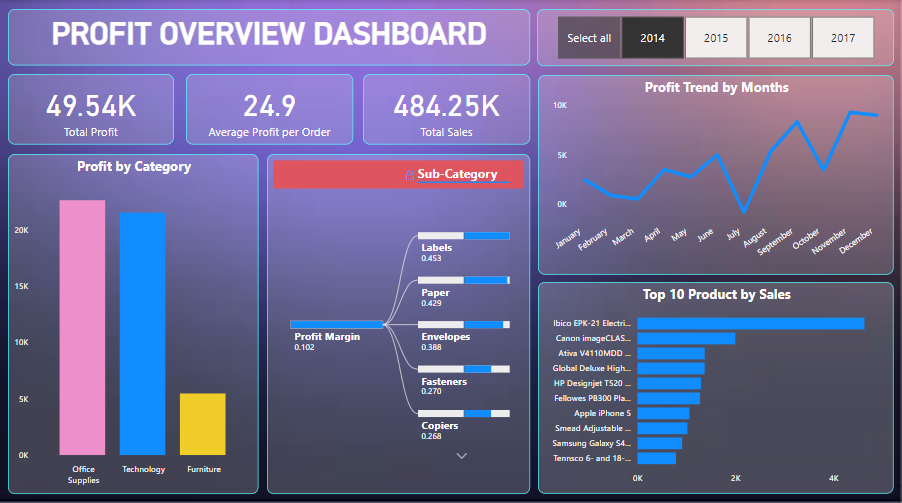

The dashboard page shown, as its layout file describes it:
{"tool":"powerbi","page":{"name":"profit overview","canvas":[1280,720],"ordinal":2},"visuals":[{"type":"card","fields":{"Values":["Sum(Orders.Profit)"]},"box":[11.7,105,235,100],"z":0},{"type":"columnChart","title":"Profit by Category","fields":{"Y":["Sum(Orders.Profit)"],"Category":["Orders.Category"]},"box":[11.7,218.3,355,481.7],"z":1000},{"type":"decompositionTreeVisual","title":"Total Sales by Sub-Category","fields":{"ExplainBy":["Orders.Sub-Category"],"Analyze":["Orders.Profit divided by Sales"]},"box":[378.3,218.3,373.3,481.7],"z":2000},{"type":"barChart","title":"Top 10 Product by Sales","fields":{"Category":["Orders.Product Name"],"Y":["Sum(Orders.Profit)"]},"box":[762.9,400,504.3,300],"z":3000},{"type":"lineChart","title":"Profit Trend by Months","fields":{"Y":["Sum(Orders.Profit)"],"Category":["Orders.Order Date.Variation.Date Hierarchy.Month"]},"box":[762.9,105.7,504.3,282.9],"z":4000},{"type":"slicer","fields":{"Values":["Orders.Order Date.Variation.Date Hierarchy.Year"]},"box":[773.9,12.8,506,80.8],"z":5000},{"type":"textbox","box":[11.7,13.3,740,80],"z":6000},{"type":"card","fields":{"Values":["Avg(Orders.Profit)"]},"box":[263.3,105,236.7,100],"z":7000},{"type":"card","fields":{"Values":["Sum(Orders.Sales)"]},"box":[515,105,236.7,100],"z":8000}]}

Visuals, with their boxes in screenshot pixels (x1, y1, x2, y2), scaled from the page's 1280x720 canvas onto the 902x503 screenshot:
card - Sum(Orders.Profit): Rect(8, 73, 174, 143)
"Profit by Category" columnChart: Rect(8, 153, 258, 489)
"Total Sales by Sub-Category" decompositionTreeVisual: Rect(267, 153, 530, 489)
"Top 10 Product by Sales" barChart: Rect(538, 279, 893, 489)
"Profit Trend by Months" lineChart: Rect(538, 74, 893, 271)
slicer - Orders.Order Date.Variation.Date Hierarchy.Year: Rect(545, 9, 901, 65)
textbox: Rect(8, 9, 530, 65)
card - Avg(Orders.Profit): Rect(186, 73, 352, 143)
card - Sum(Orders.Sales): Rect(363, 73, 530, 143)
